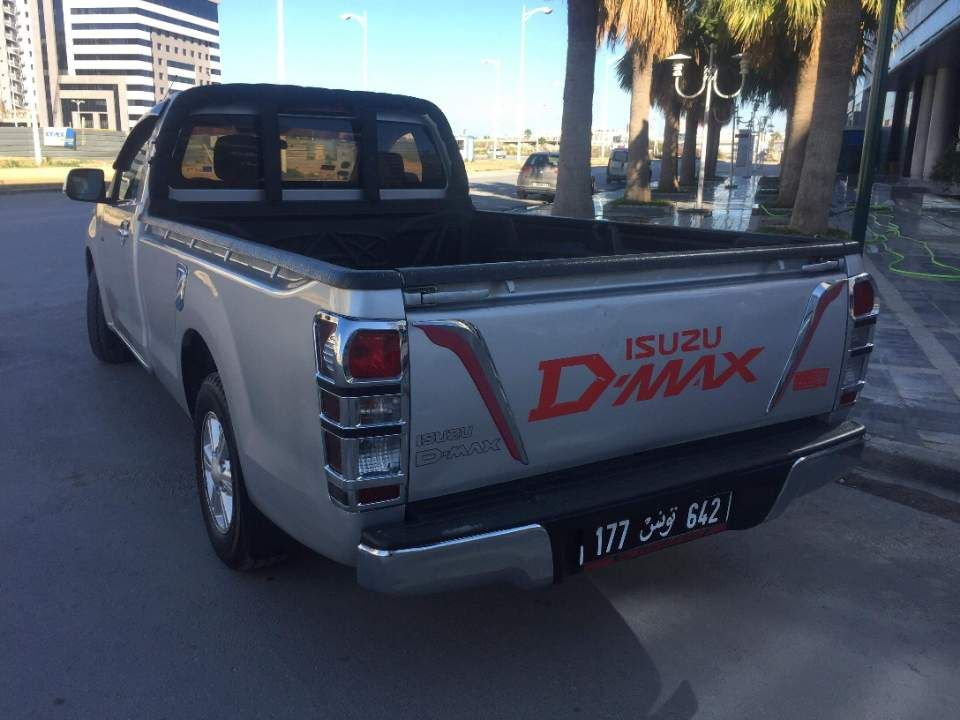LP: (578, 493, 736, 564)
